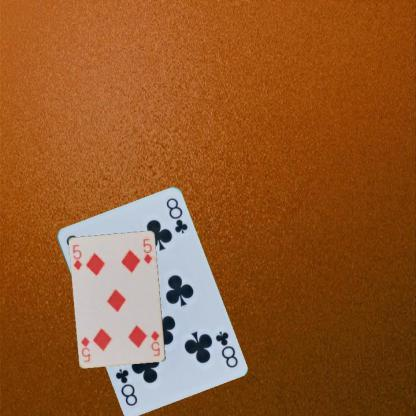5d: (70, 242, 84, 271), (149, 328, 161, 357)
8c: (212, 328, 239, 369)
